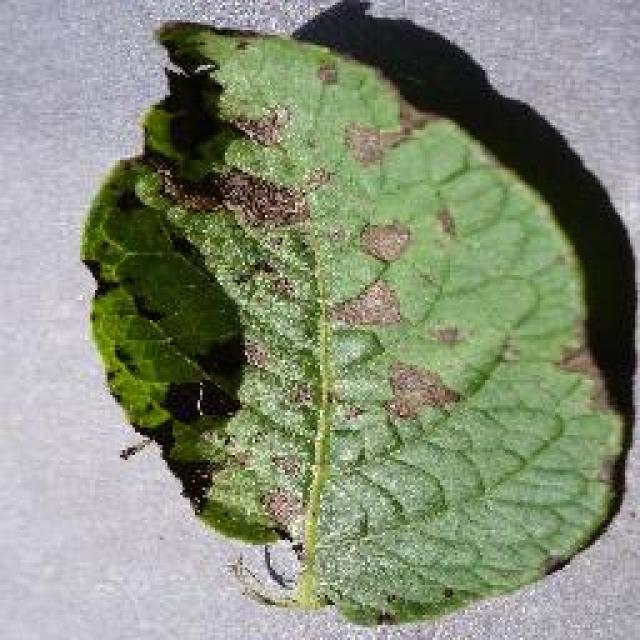early_blight: (75, 10, 633, 630)
